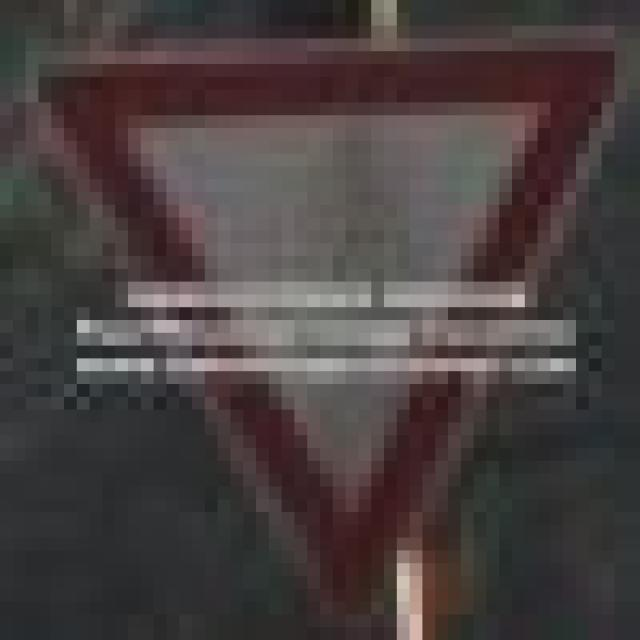gap_in_median: (26, 38, 627, 589)
